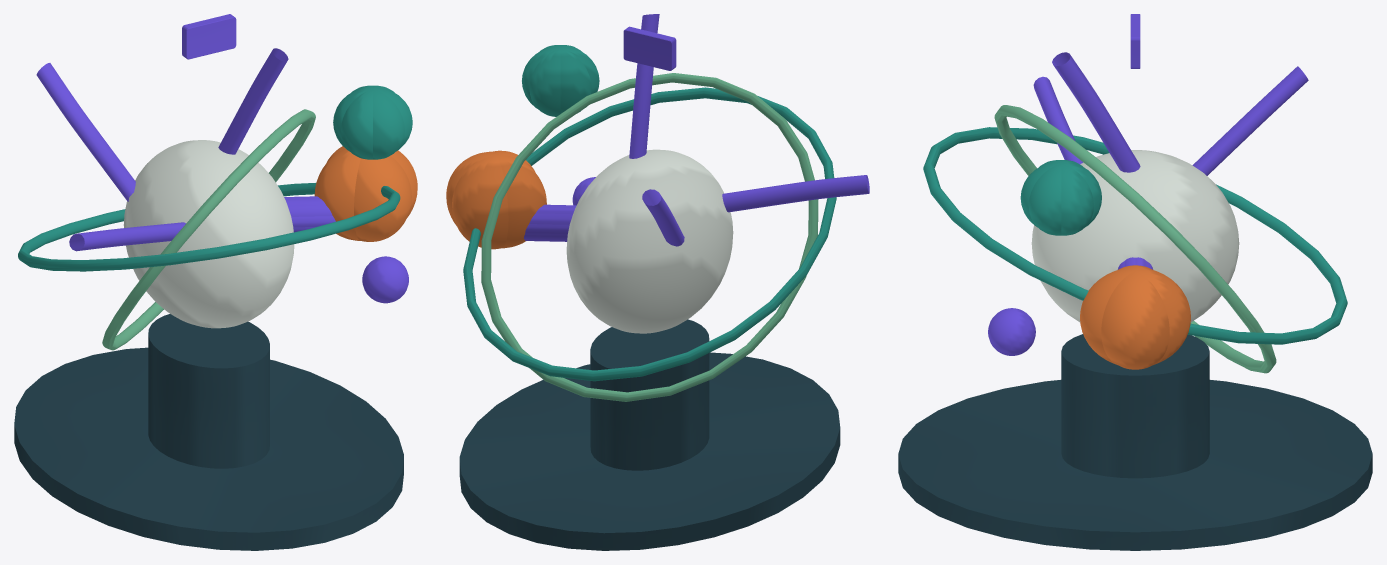
The model's file is 0512_生活中的化学图鉴_镓.glb.
The picture shows the model from 3 angles, left to right: view 1: azimuth 30°, elevation 25°; view 2: azimuth 150°, elevation 25°; view 3: azimuth 270°, elevation 25°; orthographic projection. The views are drawn at different scales.
Visible parts, largest first — view 1: card_0512; view 2: card_0512; view 3: card_0512.
Part boxes in pixels (bbox=[...]): card_0512: bbox=[14, 14, 417, 550]; card_0512: bbox=[446, 14, 869, 550]; card_0512: bbox=[898, 14, 1372, 550].
Bounding box in the file's own units: 0.9241 × 1 × 0.9617.
